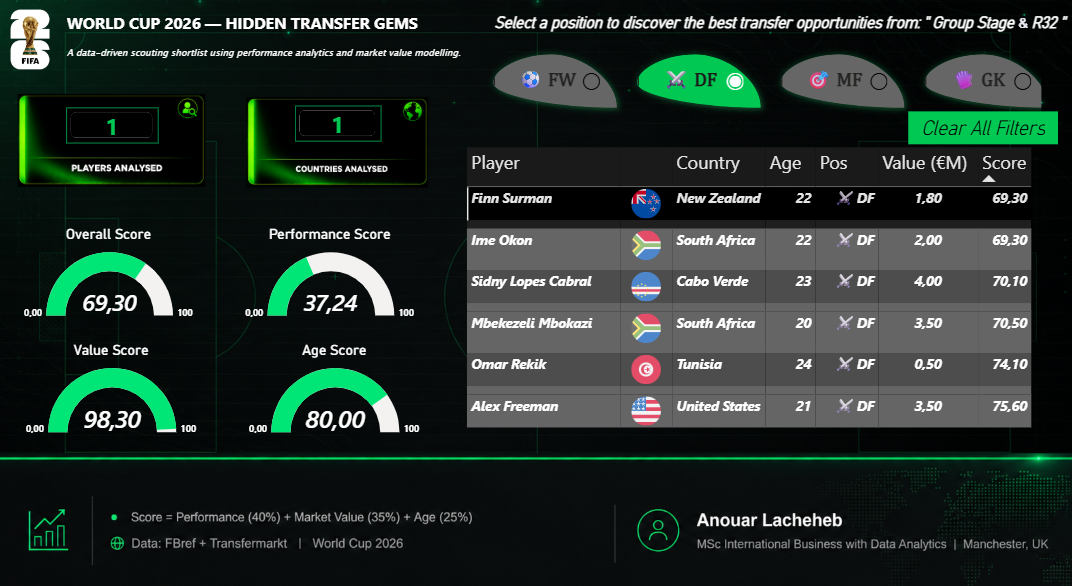

Layout of this report page (visuals, bound fields, positions):
{"tool":"powerbi","page":{"name":"Page 1","canvas":[1280,720],"ordinal":0},"visuals":[{"type":"image","box":[24.4,39.9,221.7,259.4],"z":1000},{"type":"image","box":[294.8,115.3,215,113.1],"z":2000},{"type":"tableEx","fields":{"Values":["Append1.Player","World_Cup_2026_48_Teams_Circular_Flags.CircularFlagSVG","Append1.Country","Append1.Age_tm","Append1.Pos","Append1.Value_M","Append1.Score"]},"box":[548.8,173.9,704.8,356.9],"z":3000},{"type":"textbox","box":[77.6,13.3,432.3,37.7],"z":4000},{"type":"advancedSlicerVisual","fields":{"Values":["Append1.Pos"]},"box":[543.1,51,711.6,97.5],"z":5000},{"type":"image","box":[0,13.3,77.6,73.2],"z":6000},{"type":"textbox","box":[574.1,13.3,702.7,53.2],"z":7000},{"type":"gauge","title":"Overall Score ","fields":{"Y":["Avg(Append1.Score)"],"MaxValue":["Append1.Measure"]},"box":[22.2,270.4,219.5,124.1],"z":8000},{"type":"gauge","title":"Performance Score ","fields":{"MaxValue":["Append1.Measure"],"Y":["Append1.Perf_Score"]},"box":[283.7,270.4,219.5,124.1],"z":9000},{"type":"gauge","title":"Value Score ","fields":{"MaxValue":["Append1.Measure"],"Y":["Avg(Append1.n_val)"]},"box":[23.3,407.4,221.2,124.2],"z":10000},{"type":"gauge","title":"Age Score ","fields":{"MaxValue":["Append1.Measure"],"Y":["Avg(Append1.n_age)"]},"box":[287.2,407.4,221.2,124.2],"z":11000},{"type":"cardVisual","fields":{"Data":["Count(Append1.Country)"]},"box":[352.5,128.6,102,42.1],"z":12000},{"type":"actionButton","box":[1076.7,135,176.9,39],"z":13000},{"type":"cardVisual","fields":{"Data":["Count(Append1.Player)"]},"box":[82,130.8,108.6,42.1],"z":14000},{"type":"textbox","box":[77.6,51,496.6,35.5],"z":15000},{"type":"image","box":[2.2,447.8,1276.9,254.9],"z":15001}]}

Visuals, with their boxes in screenshot pixels (x1, y1, x2, y2), scaled from the page's 1280x720 canvas onto the 1072x586 screenshot:
image: <box>20,32,206,244</box>
image: <box>247,94,427,186</box>
tableEx - Append1.Player x World_Cup_2026_48_Teams_Circular_Flags.CircularFlagSVG: <box>460,142,1050,432</box>
textbox: <box>65,11,427,42</box>
advancedSlicerVisual - Append1.Pos: <box>455,42,1051,121</box>
image: <box>0,11,65,70</box>
textbox: <box>481,11,1069,54</box>
"Overall Score " gauge: <box>19,220,202,321</box>
"Performance Score " gauge: <box>238,220,421,321</box>
"Value Score " gauge: <box>20,332,205,433</box>
"Age Score " gauge: <box>241,332,426,433</box>
cardVisual - Count(Append1.Country): <box>295,105,381,139</box>
actionButton: <box>902,110,1050,142</box>
cardVisual - Count(Append1.Player): <box>69,106,160,141</box>
textbox: <box>65,42,481,70</box>
image: <box>2,364,1071,572</box>
